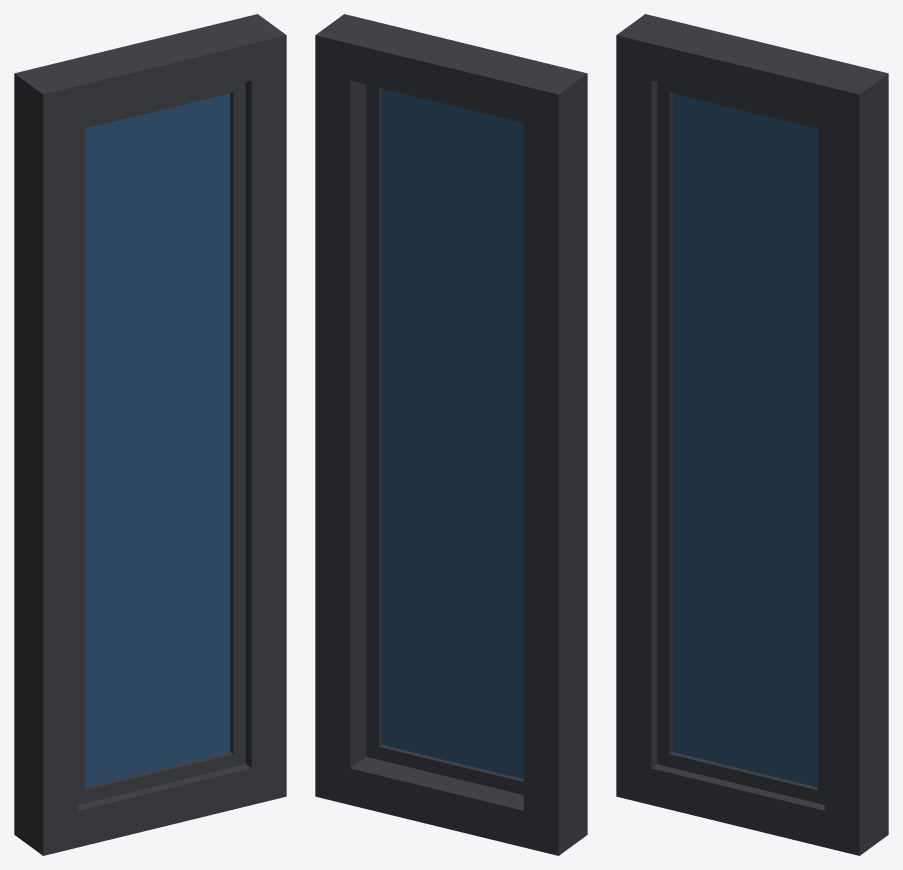
File: SM_Opening_Window03613_Black_01.gltf
3 renders of one model, left to right at view 1: azimuth 30°, elevation 25°; view 2: azimuth 150°, elevation 25°; view 3: azimuth 330°, elevation 25°, orthographic.
Parts seen in each view (by area): view 1: SM_Opening_Window03613_Black_01; view 2: SM_Opening_Window03613_Black_01; view 3: SM_Opening_Window03613_Black_01.
Boxes of the visible parts, box(x1,y1,x2,y2) form: SM_Opening_Window03613_Black_01: box(14, 14, 286, 855); SM_Opening_Window03613_Black_01: box(315, 14, 587, 855); SM_Opening_Window03613_Black_01: box(616, 14, 888, 855).
Bounding box in the file's own units: 0.485 × 1.45 × 0.1.
1 material, 1 textured.
